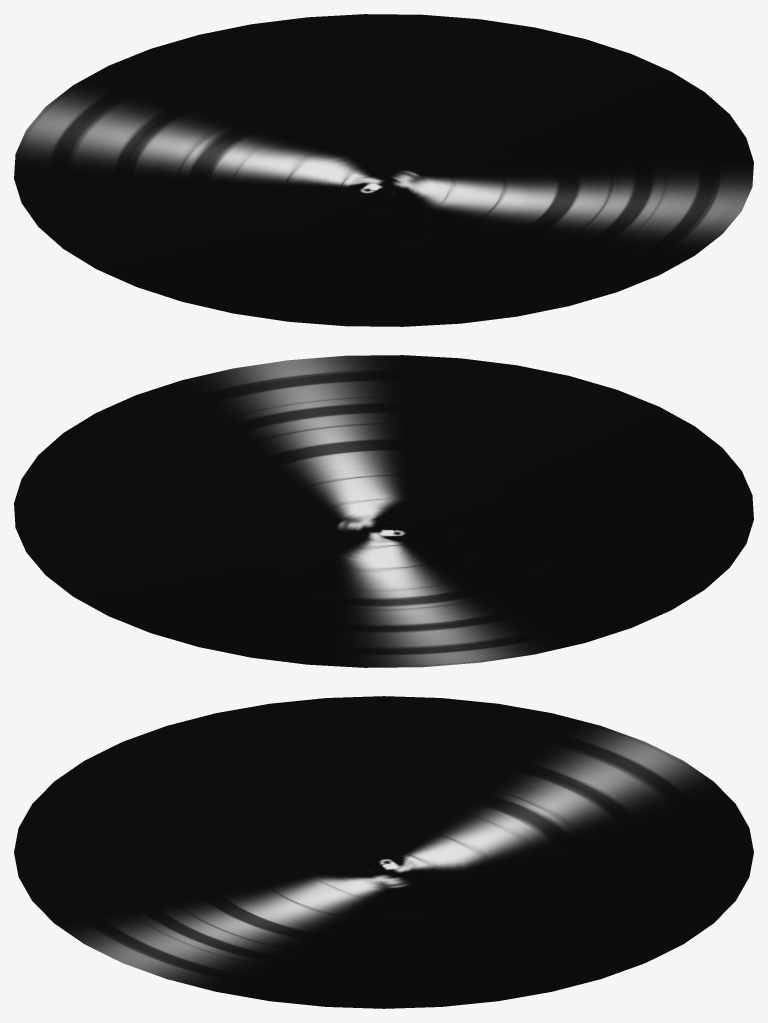
File: rotor1.obj
The picture shows the model from 3 angles, top to bottom: view 1: azimuth 30°, elevation 25°; view 2: azimuth 150°, elevation 25°; view 3: azimuth 270°, elevation 25°; orthographic projection.
Parts seen in each view (by area): view 1: blade_fly; view 2: blade_fly; view 3: blade_fly.
Part boxes in pixels (x1,y1,x2,y2): blade_fly: (14, 14, 753, 326); blade_fly: (14, 355, 753, 667); blade_fly: (14, 696, 753, 1008).
Bounding box in the file's own units: 86.09 × 2.24 × 86.09.
1 material, 1 textured.
